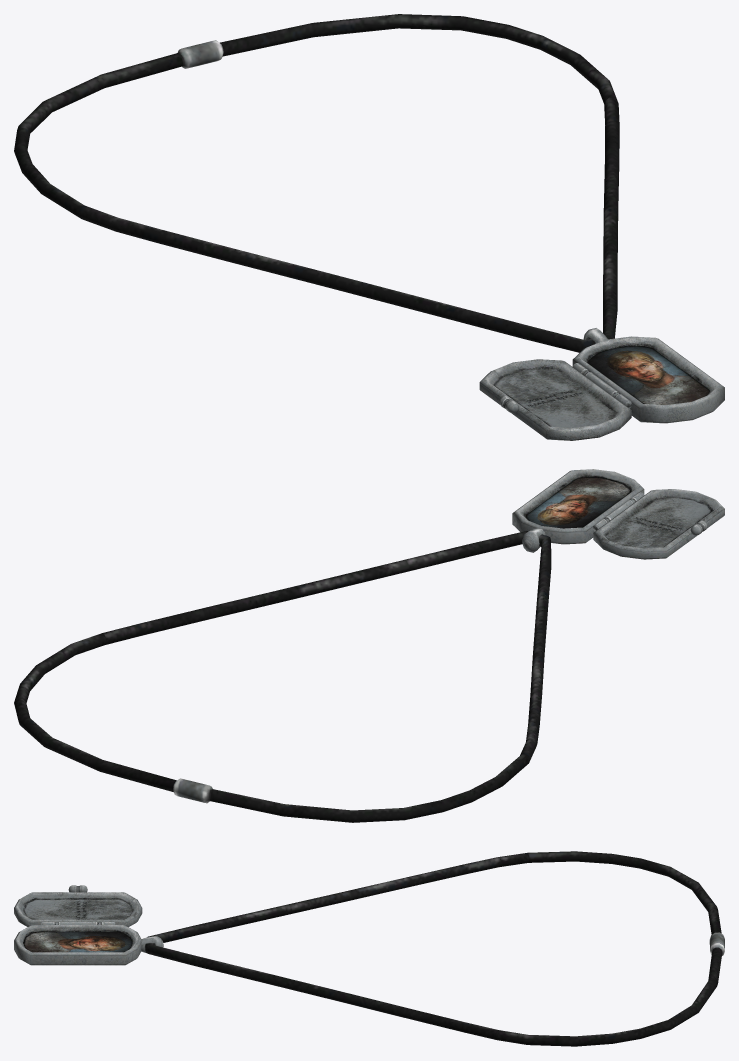
The model's file is amy_necklace.DAE.
3 renders of one model, top to bottom at view 1: azimuth 30°, elevation 25°; view 2: azimuth 150°, elevation 25°; view 3: azimuth 270°, elevation 25°, orthographic. The views are drawn at different scales.
Parts seen in each view (by area): view 1: amy_necklace_low_poly; view 2: amy_necklace_low_poly; view 3: amy_necklace_low_poly.
Boxes of the visible parts, box(x1,y1,x2,y2) form: amy_necklace_low_poly: box(14, 14, 724, 440); amy_necklace_low_poly: box(14, 469, 724, 822); amy_necklace_low_poly: box(14, 851, 724, 1046).
Bounding box in the file's own units: 0.1888 × 0.2997 × 0.00891.
Materials: 1 (1 with a texture image).
